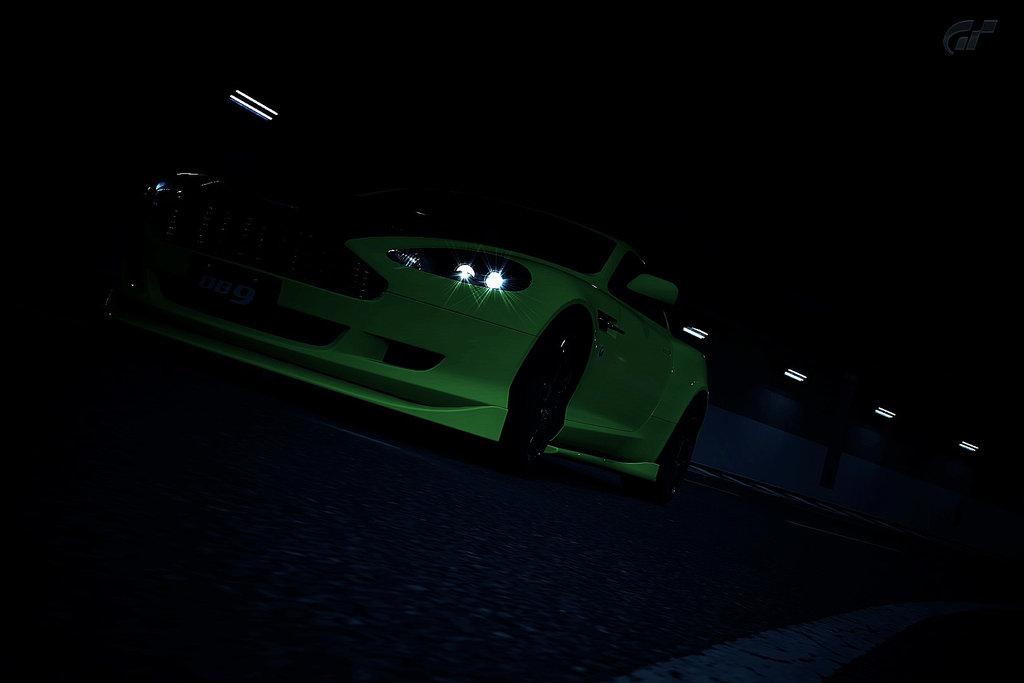car: (115, 132, 737, 530)
